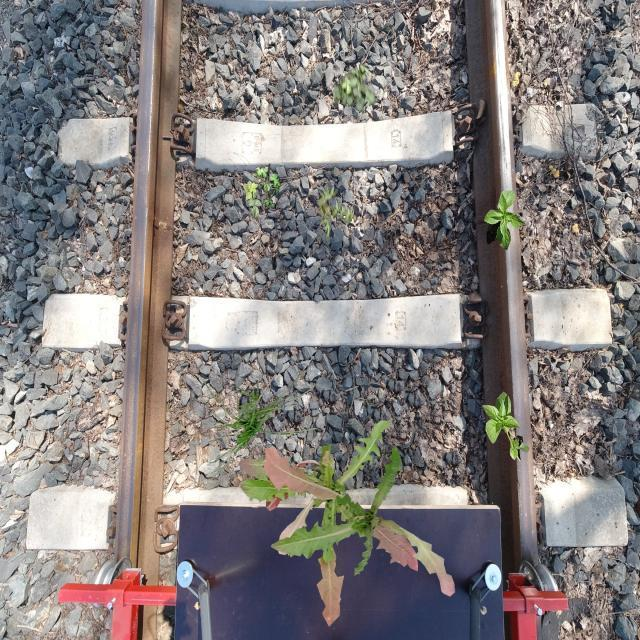Plant: (239, 419, 419, 628), (263, 445, 456, 597), (201, 358, 320, 480), (482, 391, 530, 462), (484, 190, 526, 250), (316, 185, 358, 239), (333, 63, 376, 113), (243, 164, 280, 219)
